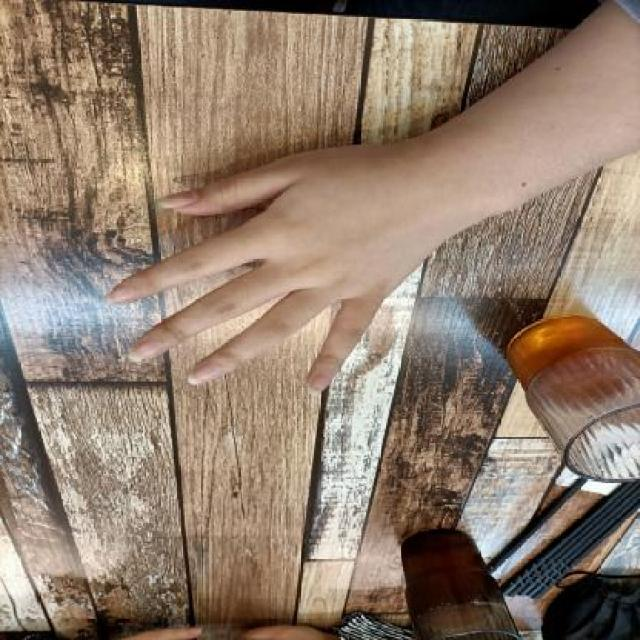bare_hand: (77, 128, 480, 406)
